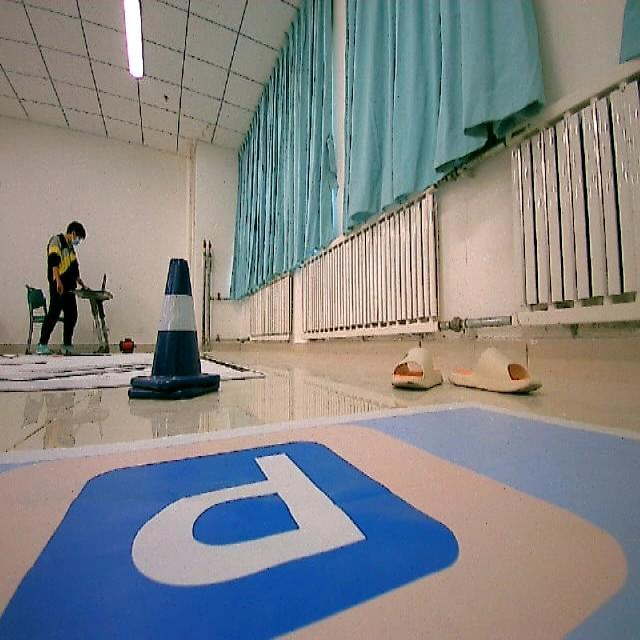obstacle: (124, 253, 227, 412)
